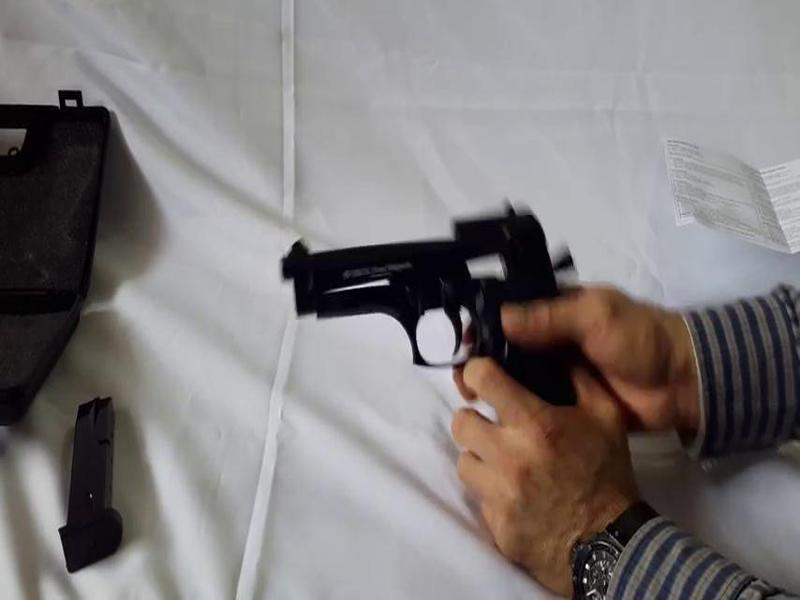Pistola: (280, 197, 596, 425)
